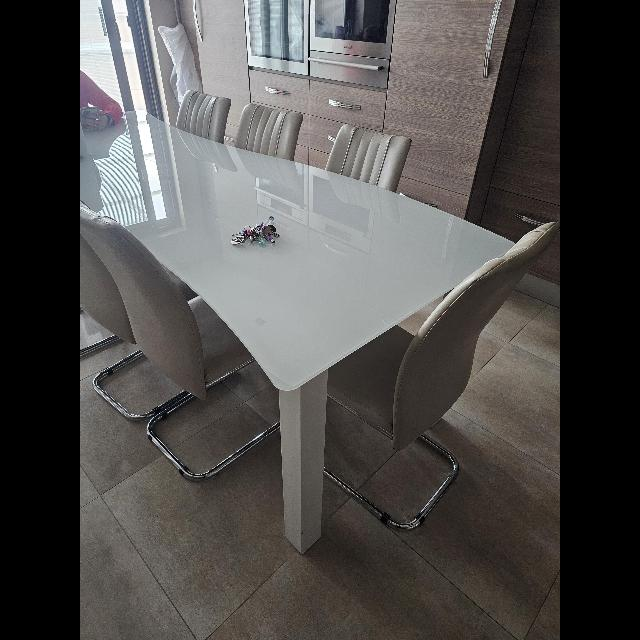Keys: (232, 217, 278, 246)
